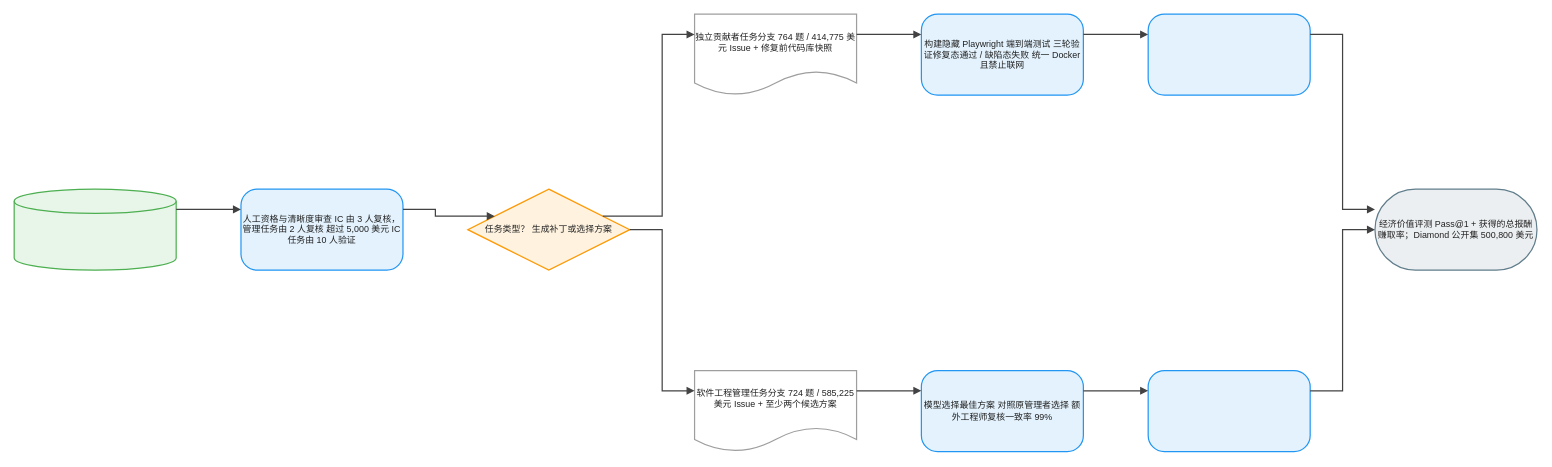
Some shapes in this 1552 by 467 pixel diagram are drawn without their labels. Here are the shapes that lost their labels. From the top down, the box of each, then its label:
(1147, 13, 1310, 95): 模型生成代码库补丁 可选用户工具记录操作轨迹 由隐藏端到端测试评分
(13, 188, 176, 270): 1,488 个 Expensify Upwork 任务 真实支付总额 100 万美元 涉及 100 位专业工程师
(1147, 370, 1310, 452): 管理任务解决判定 所选方案与参考答案一致 无需生成代码库补丁
